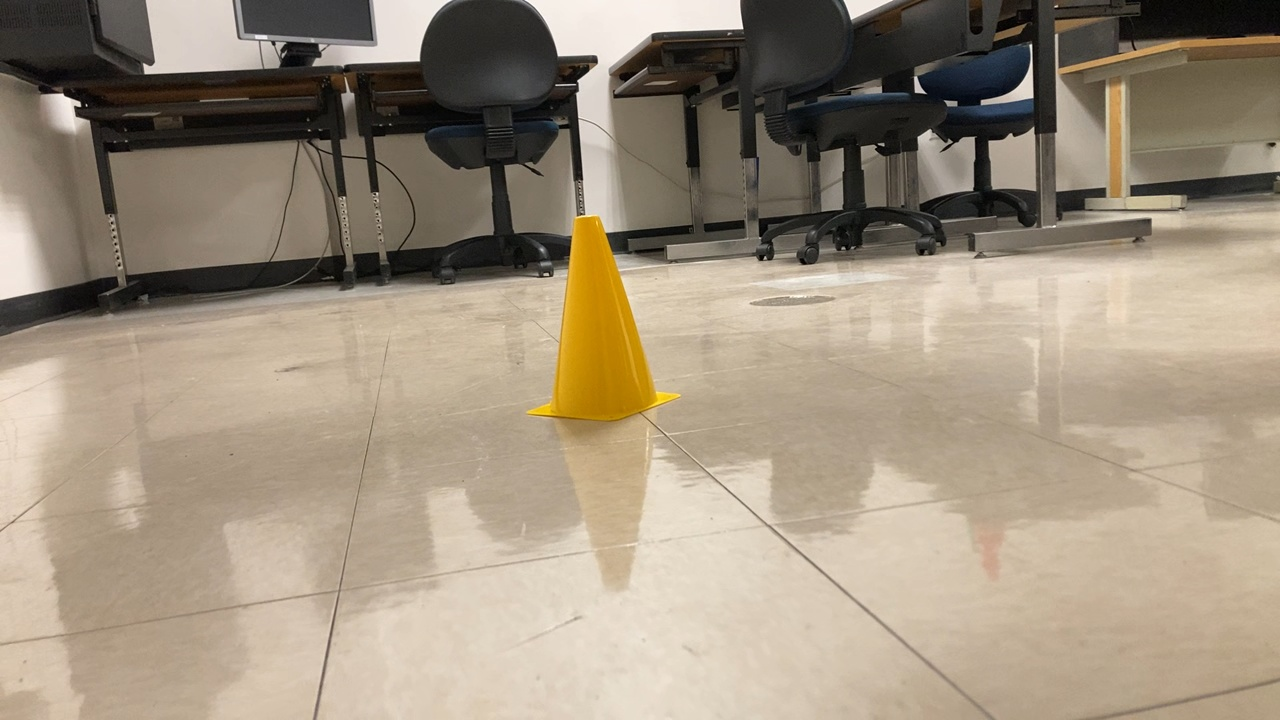yellow_cone: (519, 212, 685, 425)
